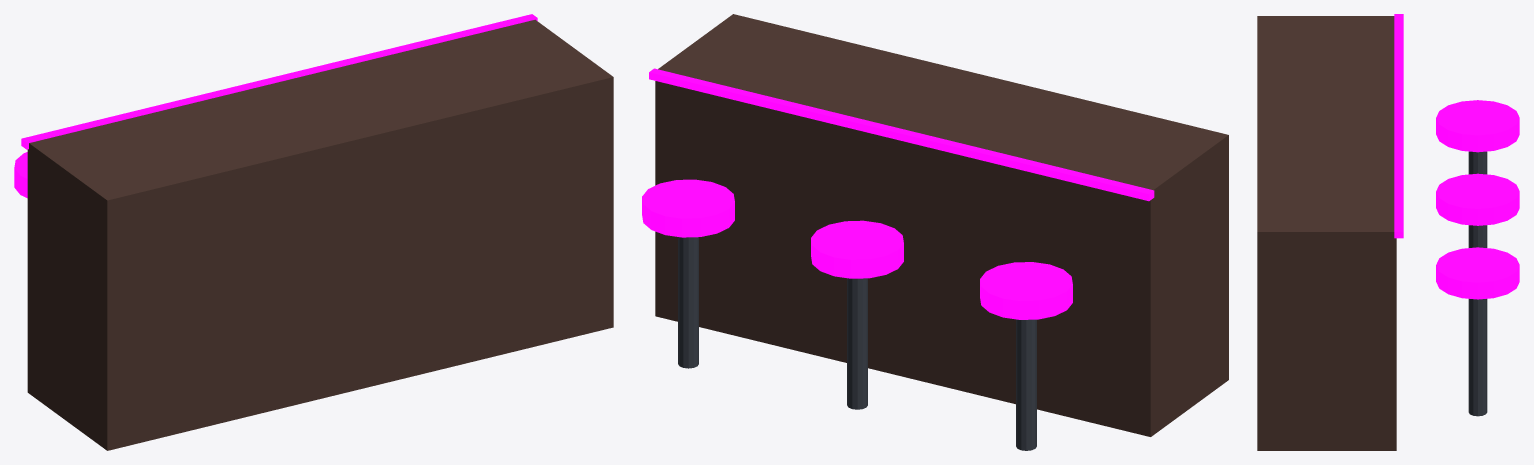
The model's file is CyberRamen_CounterBar.fbx.
3 views of the same model, side by side, from view 1: azimuth 30°, elevation 25°; view 2: azimuth 150°, elevation 25°; view 3: azimuth 270°, elevation 25° (orthographic). The views are drawn at different scales.
Parts seen in each view (by area): view 1: CyberRamen_CounterBar, RamenBar_NeonTrim; view 2: CyberRamen_CounterBar, RamenBar_NeonTrim, RamenStool_Cushion_3, RamenStool_Cushion_2, RamenStool_Cushion_1, RamenStool_Leg_2, RamenStool_Leg_3, RamenStool_Leg_1; view 3: CyberRamen_CounterBar, RamenStool_Cushion_3, RamenStool_Cushion_2, RamenStool_Cushion_1, RamenStool_Leg_3, RamenBar_NeonTrim, RamenStool_Leg_1, RamenStool_Leg_2.
Part boxes in pixels (x1=…): CyberRamen_CounterBar: x1=27, y1=19, x2=613, y2=450; RamenBar_NeonTrim: x1=21, y1=14, x2=537, y2=149; CyberRamen_CounterBar: x1=655, y1=14, x2=1228, y2=436; RamenBar_NeonTrim: x1=649, y1=68, x2=1154, y2=201; RamenStool_Cushion_3: x1=642, y1=179, x2=734, y2=237; RamenStool_Cushion_2: x1=811, y1=220, x2=903, y2=278; RamenStool_Cushion_1: x1=980, y1=262, x2=1072, y2=319; RamenStool_Leg_2: x1=847, y1=278, x2=867, y2=409; RamenStool_Leg_3: x1=678, y1=237, x2=698, y2=368; RamenStool_Leg_1: x1=1016, y1=319, x2=1036, y2=450; CyberRamen_CounterBar: x1=1257, y1=16, x2=1396, y2=450; RamenStool_Cushion_3: x1=1436, y1=247, x2=1519, y2=299; RamenStool_Cushion_2: x1=1436, y1=173, x2=1519, y2=225; RamenStool_Cushion_1: x1=1436, y1=100, x2=1519, y2=152; RamenStool_Leg_3: x1=1468, y1=299, x2=1487, y2=416; RamenBar_NeonTrim: x1=1394, y1=14, x2=1403, y2=238; RamenStool_Leg_1: x1=1468, y1=151, x2=1487, y2=174; RamenStool_Leg_2: x1=1468, y1=225, x2=1487, y2=247.
Size of what is drawn, in the model's own units: 2.22 by 1.04 by 1.13.
